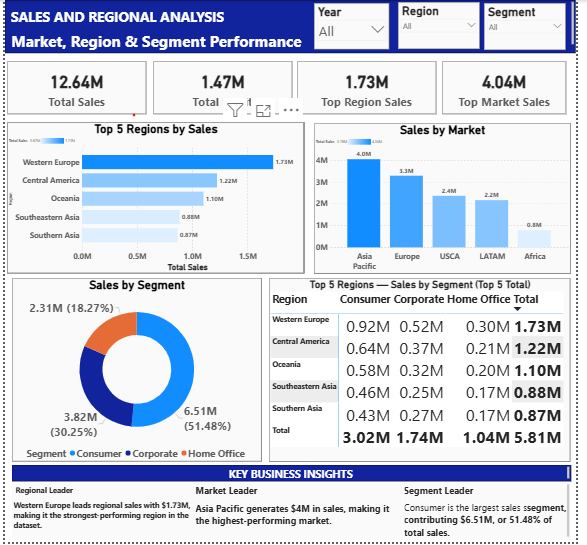

Layout of this report page (visuals, bound fields, positions):
{"tool":"powerbi","page":{"name":"Sales & Regional Analysis","canvas":[2000,1900],"ordinal":1},"visuals":[{"type":"textbox","box":[0,0,2000,186.2],"z":0},{"type":"card","fields":{"Values":["Orders.Total Sales"]},"box":[8.7,214.8,487.7,185.8],"z":1000},{"type":"card","fields":{"Values":["Orders.Total Profit"]},"box":[519.6,214.8,487.7,185.8],"z":2000},{"type":"card","fields":{"Values":["Orders.Top Region Sales"]},"box":[1024.7,214.8,487.7,185.8],"z":3000},{"type":"card","fields":{"Values":["Orders.Top Market Sales"]},"box":[1532.7,214.8,435.4,185.8],"z":4000},{"type":"clusteredBarChart","title":"Top 5 Regions by Sales","fields":{"Category":["Orders.Region"],"Y":["Orders.Total Sales"]},"box":[6.7,429.3,1043,529.9],"z":5000},{"type":"clusteredColumnChart","title":" Sales by Market","fields":{"Category":["Orders.Market"],"Y":["Orders.Total Sales"]},"box":[1082.7,429.6,899.9,528.3],"z":6000},{"type":"donutChart","title":"Sales by Segment","fields":{"Category":["Orders.Segment"],"Y":["Orders.Total Sales"]},"box":[22.8,976.2,875.4,643.2],"z":7000},{"type":"pivotTable","title":"Top 5 Regions — Sales by Segment (Top 5 Total)","fields":{"Columns":["Dim_Customer.Segment"],"Rows":["Orders.Region"],"Values":["Orders.Total Sales"]},"box":[925.6,975.9,1056.4,643.9],"z":8000},{"type":"slicer","fields":{"Values":["Dim_Date.Date.Variation.Date Hierarchy.Year"]},"box":[1082.8,11.5,264.4,163.2],"z":9000},{"type":"slicer","fields":{"Values":["Orders.Region"]},"box":[1378.8,8.7,287.4,165.5],"z":10000},{"type":"slicer","fields":{"Values":["Orders.Segment"]},"box":[1680.7,11.6,287.4,165.5],"z":11000},{"type":"textbox","box":[22.8,1628.9,1960,57.1],"z":12000},{"type":"textbox","box":[22.8,1693.6,641.3,196],"z":13000},{"type":"textbox","box":[664.1,1693.6,730.7,196],"z":14000},{"type":"textbox","box":[1395,1694,588,196],"z":15000}]}

Visuals, with their boxes in screenshot pixels (x1, y1, x2, y2), scaled from the page's 2000x1900 canvas onto the 587x545 screenshot:
textbox: <bbox>0, 0, 586, 53</bbox>
card - Orders.Total Sales: <bbox>3, 62, 146, 115</bbox>
card - Orders.Total Profit: <bbox>153, 62, 296, 115</bbox>
card - Orders.Top Region Sales: <bbox>301, 62, 444, 115</bbox>
card - Orders.Top Market Sales: <bbox>450, 62, 578, 115</bbox>
"Top 5 Regions by Sales" clusteredBarChart: <bbox>2, 123, 308, 275</bbox>
" Sales by Market" clusteredColumnChart: <bbox>318, 123, 582, 275</bbox>
"Sales by Segment" donutChart: <bbox>7, 280, 264, 465</bbox>
"Top 5 Regions — Sales by Segment (Top 5 Total)" pivotTable: <bbox>272, 280, 582, 465</bbox>
slicer - Dim_Date.Date.Variation.Date Hierarchy.Year: <bbox>318, 3, 395, 50</bbox>
slicer - Orders.Region: <bbox>405, 2, 489, 50</bbox>
slicer - Orders.Segment: <bbox>493, 3, 578, 51</bbox>
textbox: <bbox>7, 467, 582, 484</bbox>
textbox: <bbox>7, 486, 195, 542</bbox>
textbox: <bbox>195, 486, 409, 542</bbox>
textbox: <bbox>409, 486, 582, 542</bbox>
